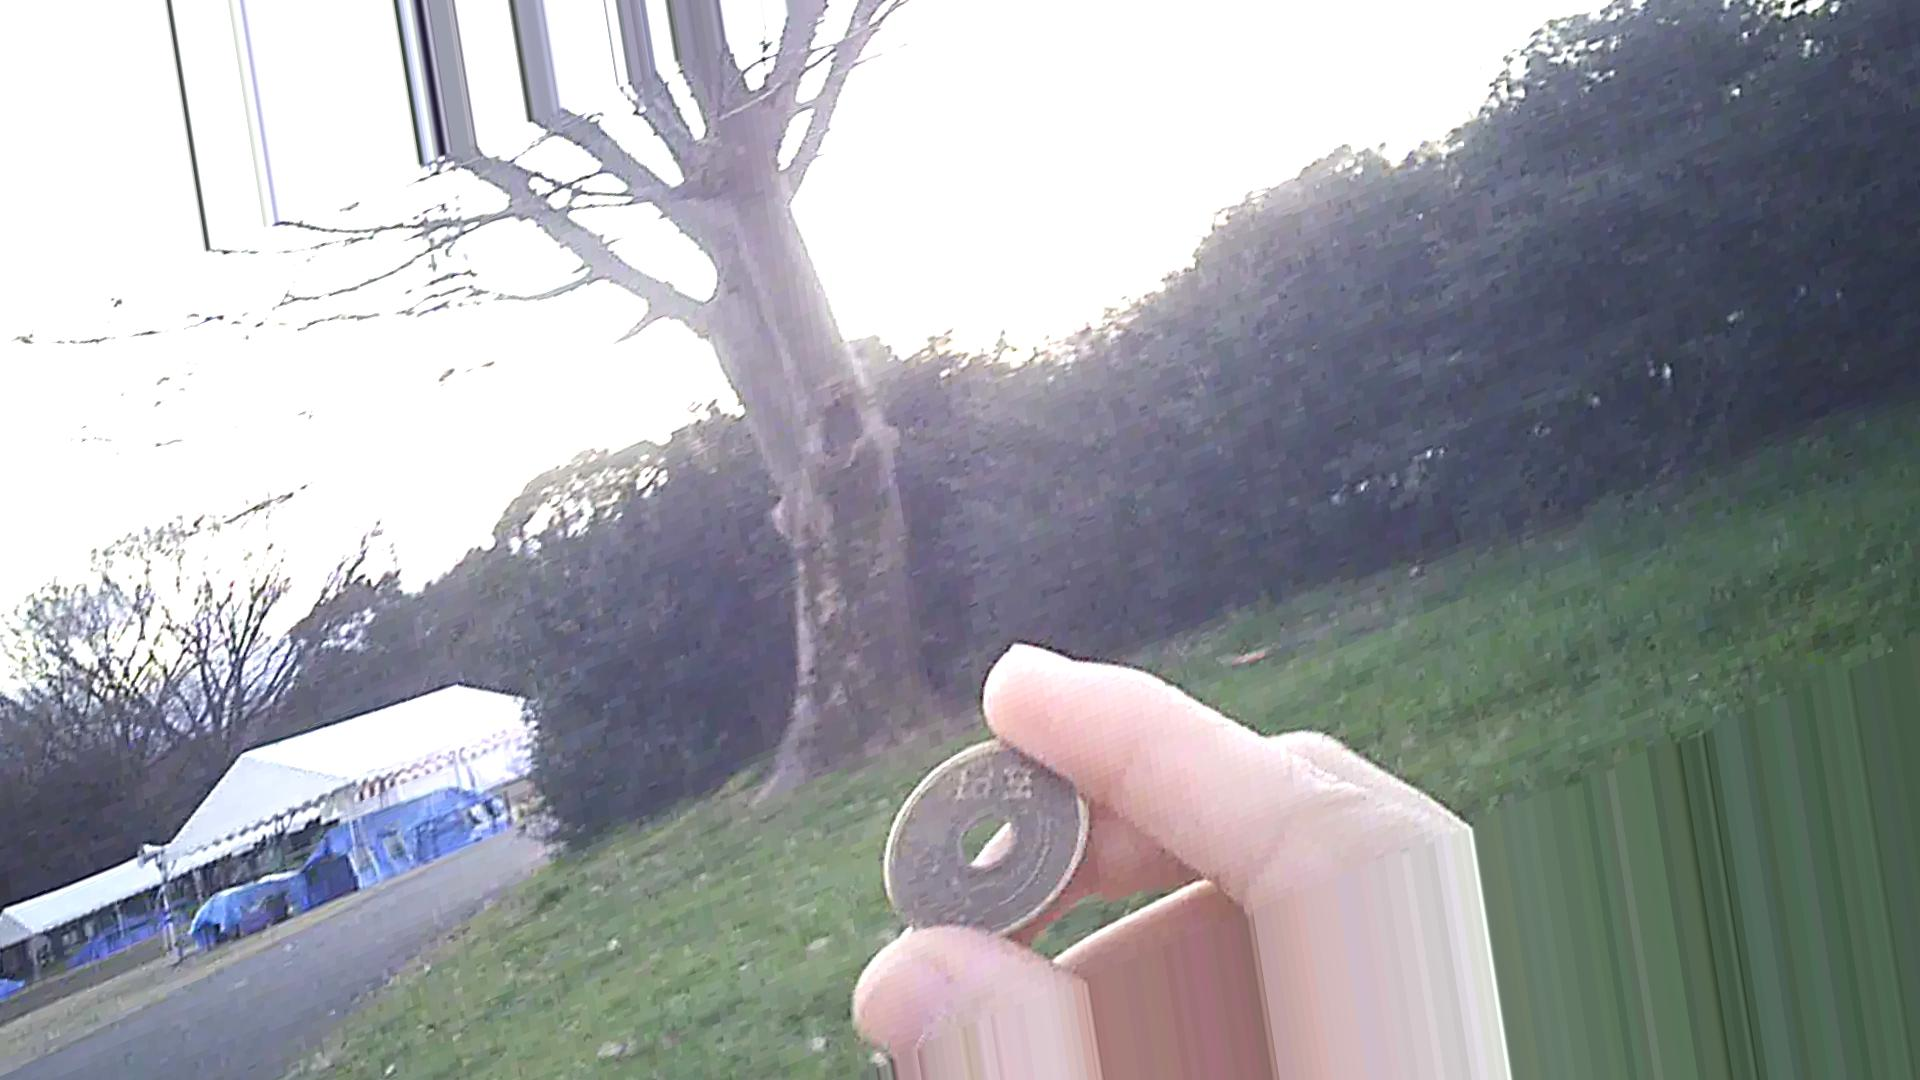5 Yen: (878, 728, 1125, 934)
